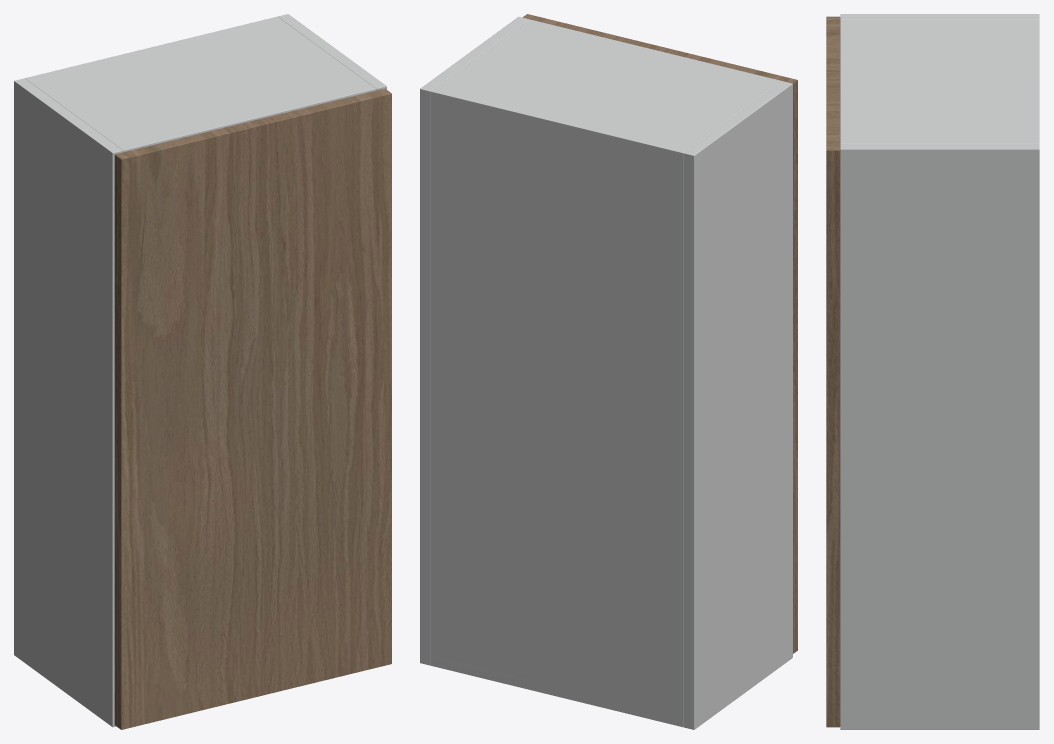
File: oppein-ply-mnw-w1836.glb
The picture shows the model from 3 angles, left to right: view 1: azimuth 30°, elevation 25°; view 2: azimuth 150°, elevation 25°; view 3: azimuth 270°, elevation 25°; orthographic projection.
Visible parts, largest first — view 1: Door, Cabinet side, Cabinet top, Cabinet side.001, Cabinet back; view 2: Cabinet back, Cabinet side, Cabinet top, Cabinet side.001, Door, Cabinet bottom; view 3: Cabinet side.001, Cabinet top, Door, Cabinet side, Cabinet back.
Boxes of the visible parts, x1,y1,x2,y2 form: Door: [114, 88, 391, 729]; Cabinet side: [14, 78, 123, 727]; Cabinet top: [26, 19, 375, 152]; Cabinet side.001: [278, 14, 386, 90]; Cabinet back: [25, 16, 280, 80]; Cabinet back: [430, 88, 686, 727]; Cabinet side: [683, 81, 792, 729]; Cabinet top: [430, 19, 781, 163]; Cabinet side.001: [420, 16, 528, 665]; Door: [522, 14, 797, 653]; Cabinet bottom: [430, 655, 683, 726]; Cabinet side.001: [840, 144, 1039, 729]; Cabinet top: [840, 19, 1039, 143]; Door: [826, 16, 840, 727]; Cabinet side: [840, 14, 1039, 19]; Cabinet back: [1031, 19, 1039, 143].
Bounding box in the file's own units: 0.4572 × 0.9144 × 0.3048.
2 materials, 1 textured.
